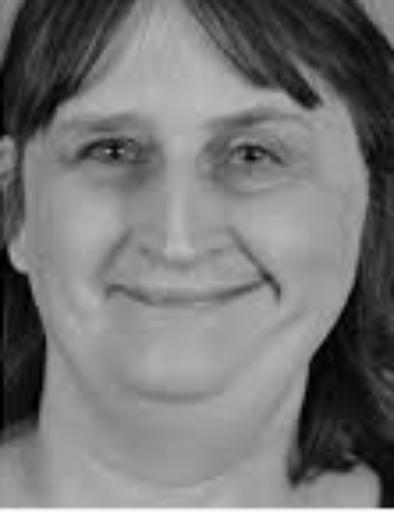left_eye: (207, 137, 287, 175)
left_lip_corner: (242, 274, 269, 299)
right_eye: (72, 134, 151, 171)
right_lip_corner: (96, 276, 131, 304)
